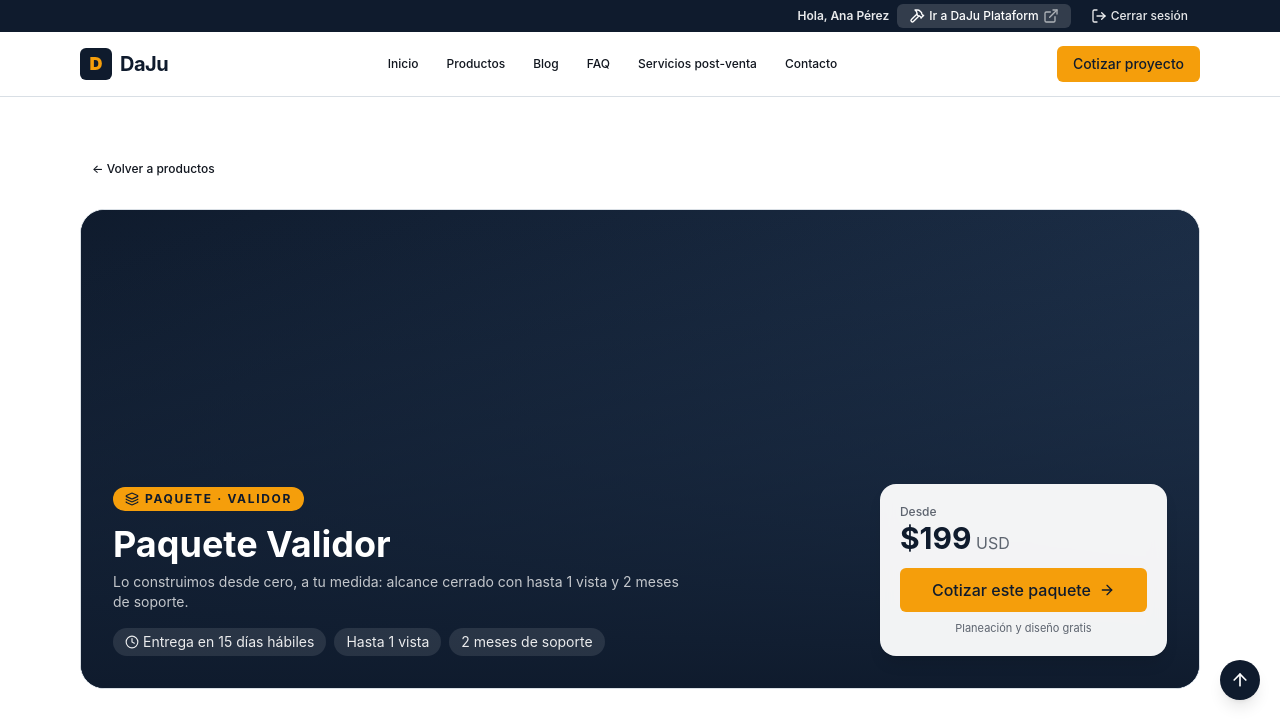
it: Cotización desde la vitrina › un cliente con sesión agrega el producto sin registrarse de nuevo
Click the button "Cotizar este paquete" at (1023, 590), box [900, 568, 1147, 612]
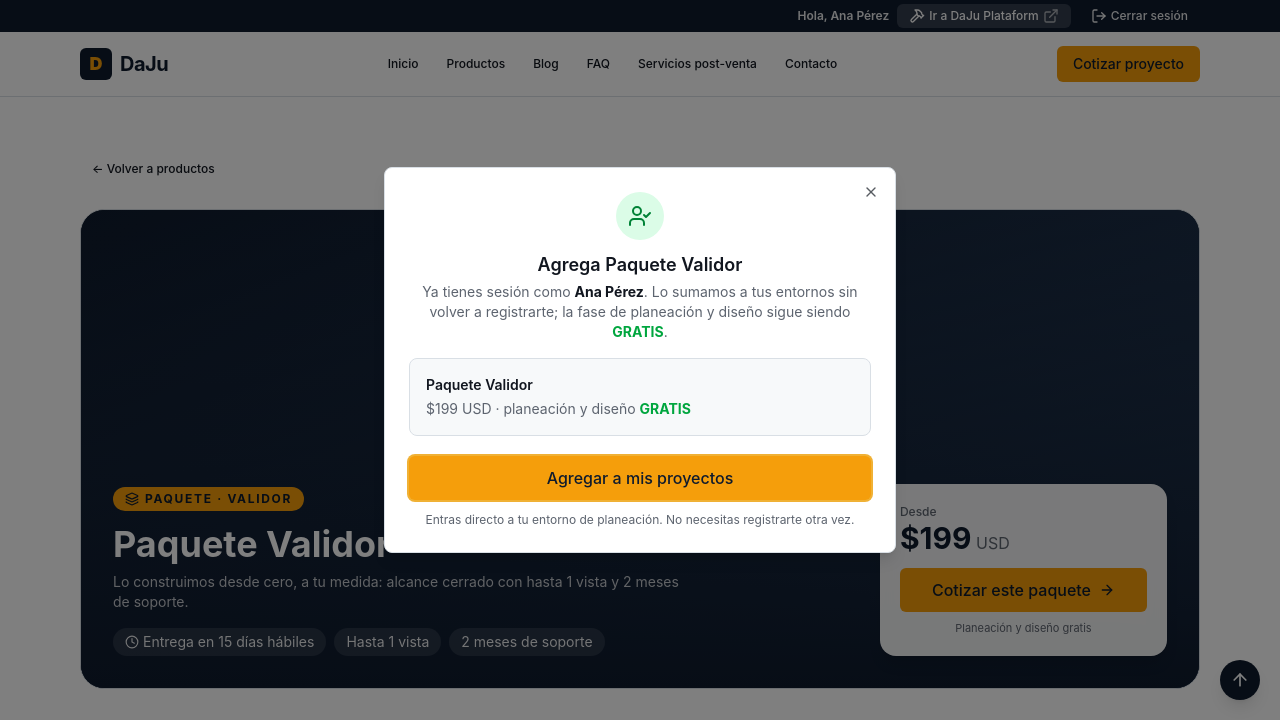
Check: the text "Ya tienes sesión como" is shown, box [422, 283, 571, 300]
Check: the button "Agregar a mis proyectos" is shown, box [409, 456, 871, 500]
